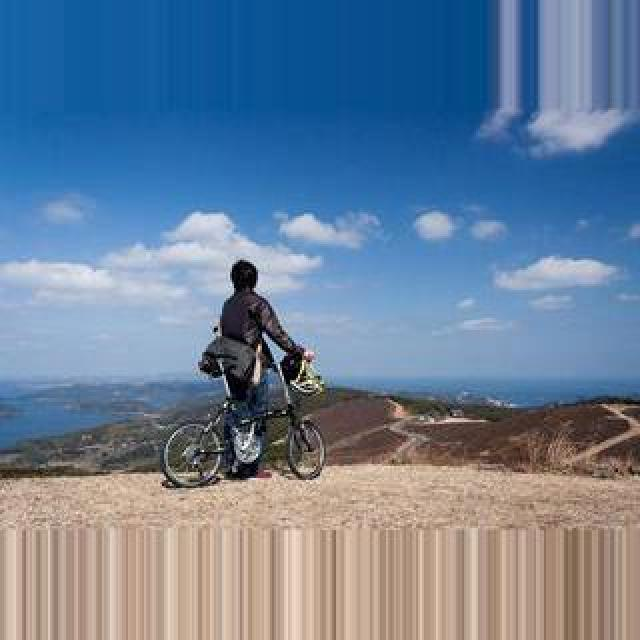MC-Bike: (200, 258, 316, 466)
Person: (158, 361, 328, 485)
